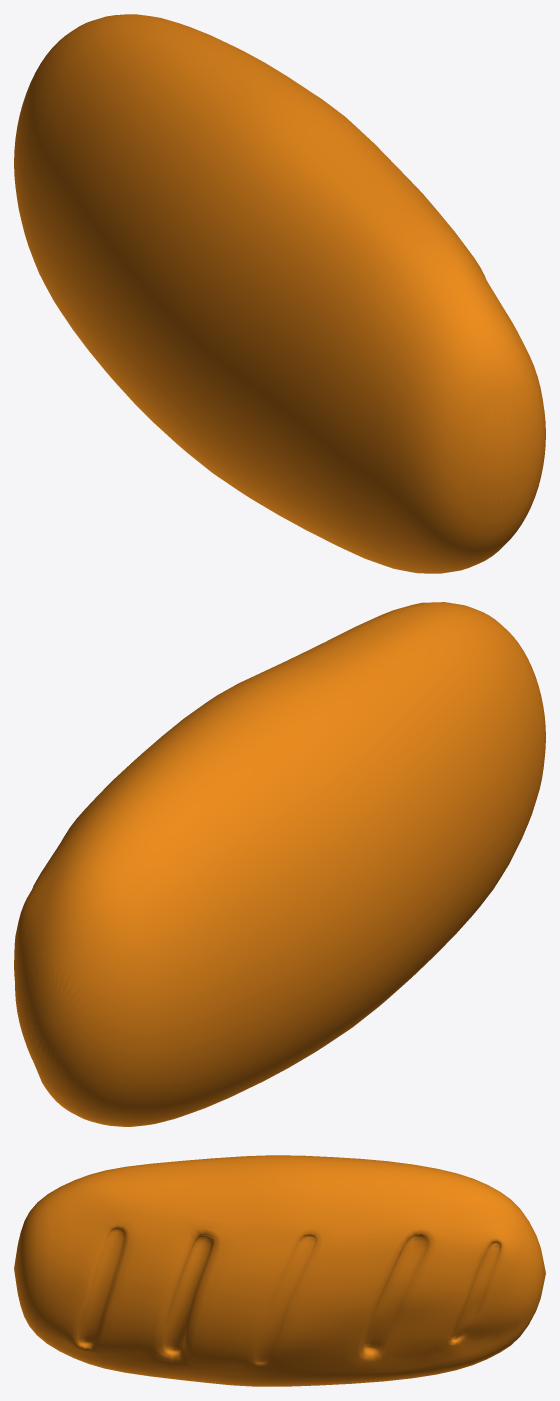
Rendered from батon.fbx.
The picture shows the model from 3 angles, top to bottom: view 1: azimuth 30°, elevation 25°; view 2: azimuth 150°, elevation 25°; view 3: azimuth 270°, elevation 25°; orthographic projection. The views are drawn at different scales.
Parts seen in each view (by area): view 1: Sphere; view 2: Sphere; view 3: Sphere.
Boxes of the visible parts, bbox=[...] form: Sphere: bbox=[14, 14, 545, 573]; Sphere: bbox=[14, 602, 545, 1126]; Sphere: bbox=[14, 1155, 545, 1386].
Size of the model in its own units: 26.09 by 36.57 by 80.28.
